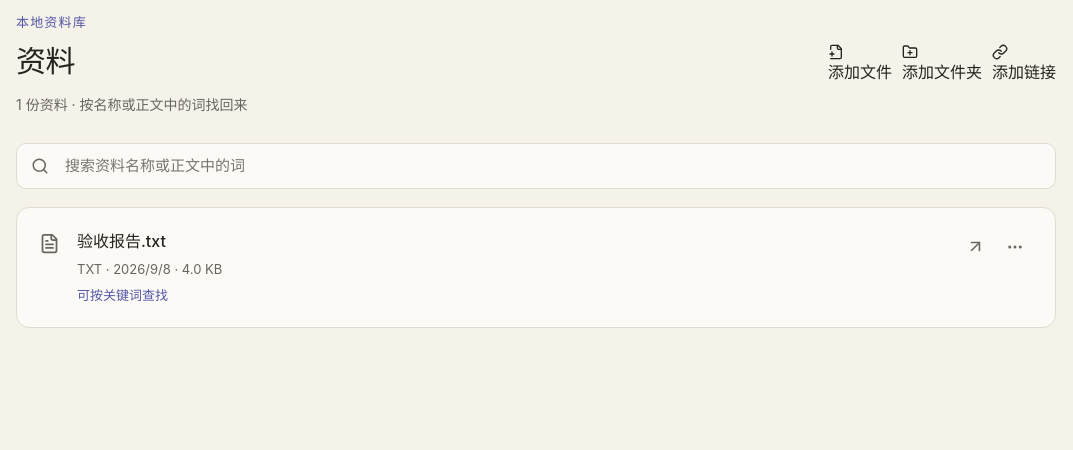
Scenario: requests body-only Chinese/technical terms from the search adapter and deduplicates file rows
Type "Oracle" into the field labelled "搜索资料名称或正文" at (550, 166), box [59,148,1041,184]
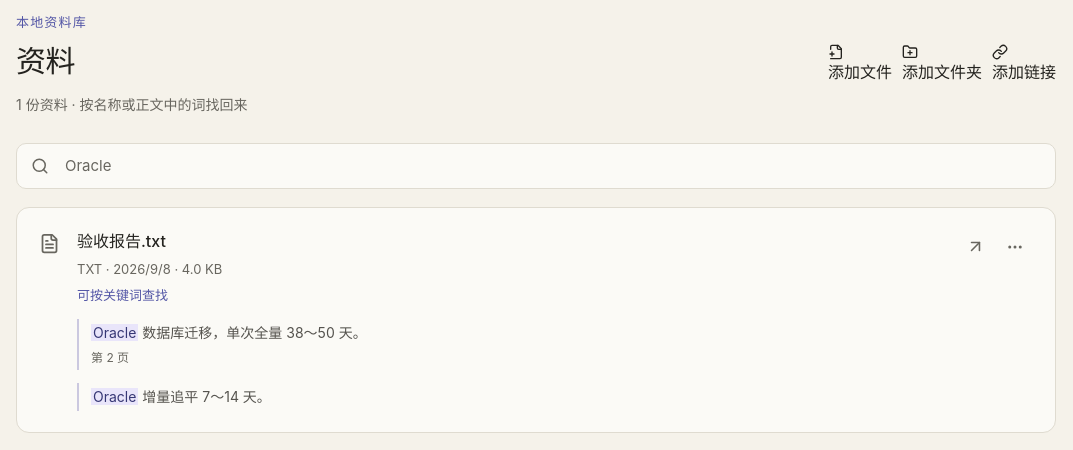
Check: the text "第 2 页" is shown, box [91,350,129,365]
Check: the text "Oracle" is shown 2 times, box [91,324,138,341]; [91,388,138,405]
